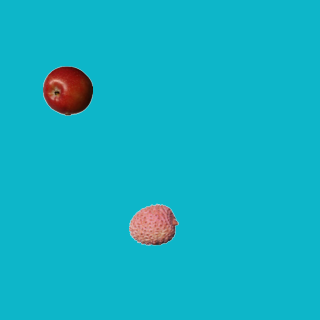Apple Braeburn: (42, 65, 92, 115)
Lychee: (128, 199, 178, 249)
